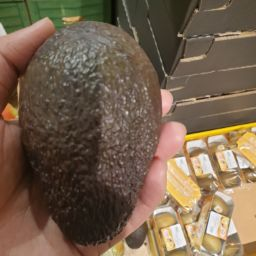Avocado: (24, 13, 166, 252), (13, 75, 169, 255)
